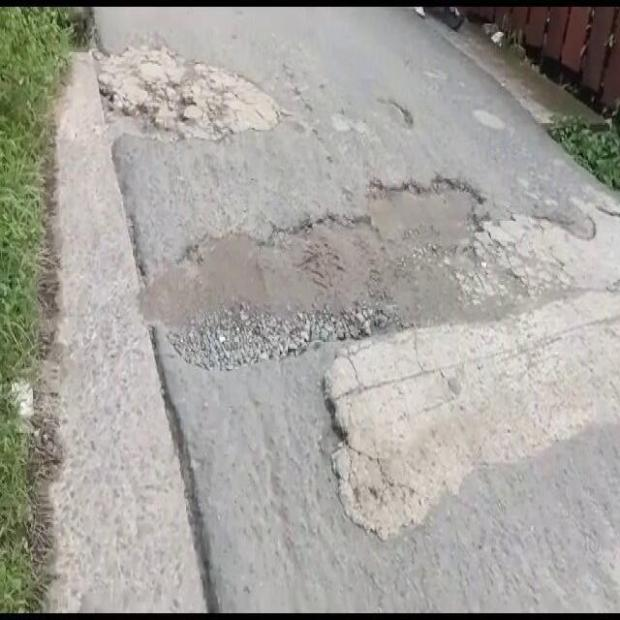lubang: (145, 188, 619, 369), (74, 46, 290, 140), (326, 379, 413, 540), (376, 98, 414, 129)
